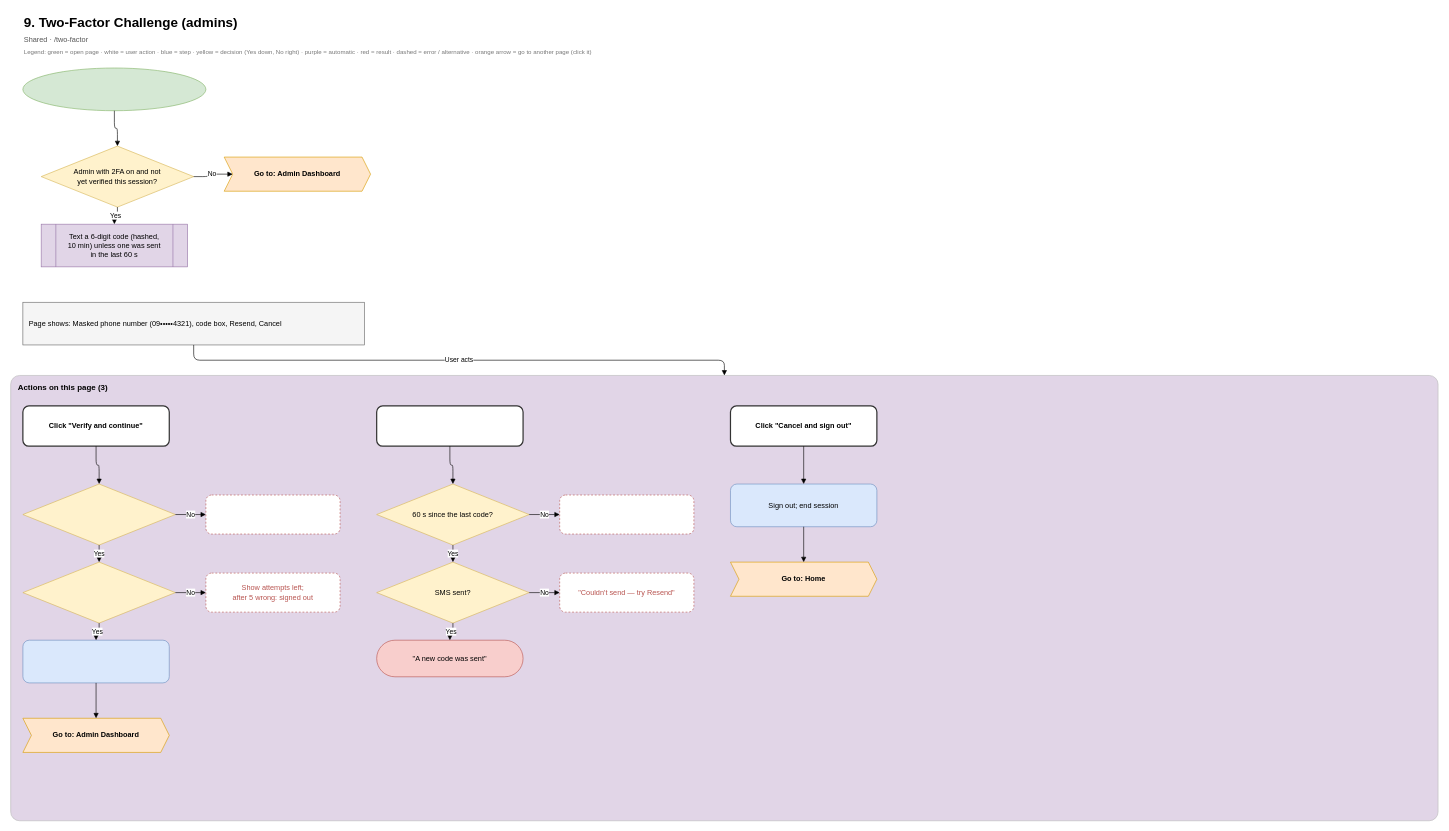
Image size: 1449x831. Some labels were removed from this diagram. The shapes that lost their labels are listed below. From the top down, each one's box as (x1, y1, x2, y2) in pixels, then its label:
(22, 67, 206, 111): User opens Two-Factor Challenge (admins)
(376, 405, 523, 447): Click "Resend code"
(22, 483, 175, 545): 6 digits entered?
(205, 494, 340, 534): Show field error
(559, 494, 694, 534): "Please wait N seconds"
(22, 562, 175, 623): Code correct and not expired?
(22, 640, 169, 683): Mark session verified
